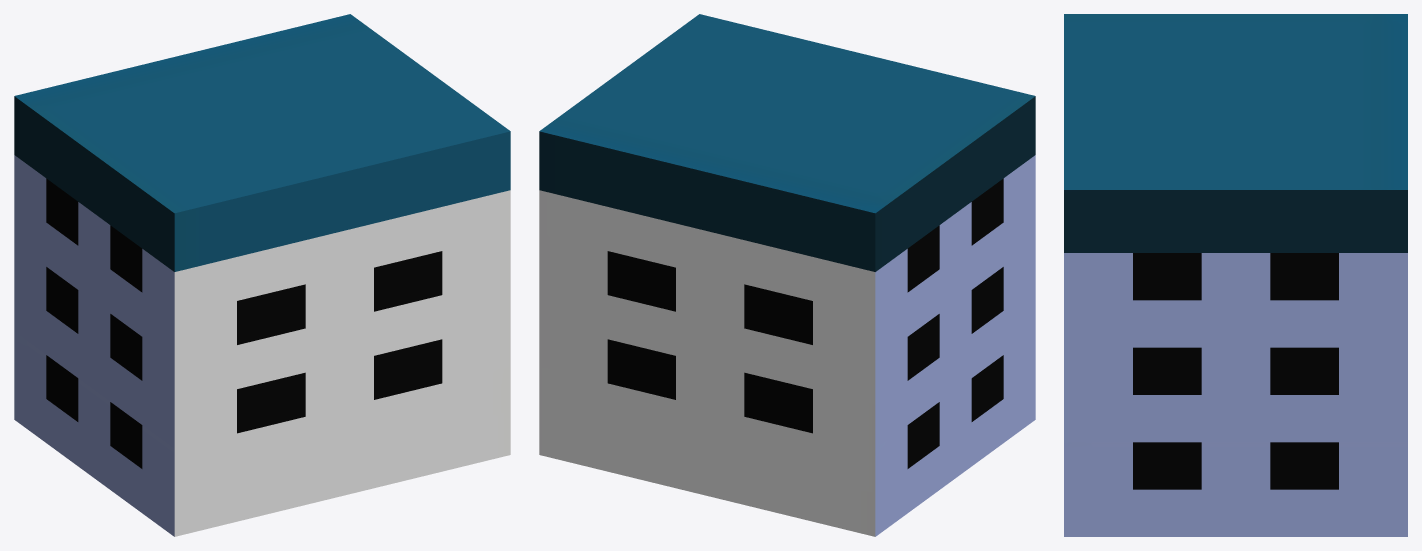
The model's file is building.FBX.
3 renders of one model, left to right at view 1: azimuth 30°, elevation 25°; view 2: azimuth 150°, elevation 25°; view 3: azimuth 270°, elevation 25°, orthographic. The views are drawn at different scales.
Visible parts, largest first — view 1: bulding; view 2: bulding; view 3: bulding.
Part boxes in pixels (x1=…): bulding: x1=14, y1=14, x2=510, y2=536; bulding: x1=539, y1=14, x2=1035, y2=536; bulding: x1=1064, y1=14, x2=1407, y2=536.
Size of the model in its own units: 177 by 146 by 163.
